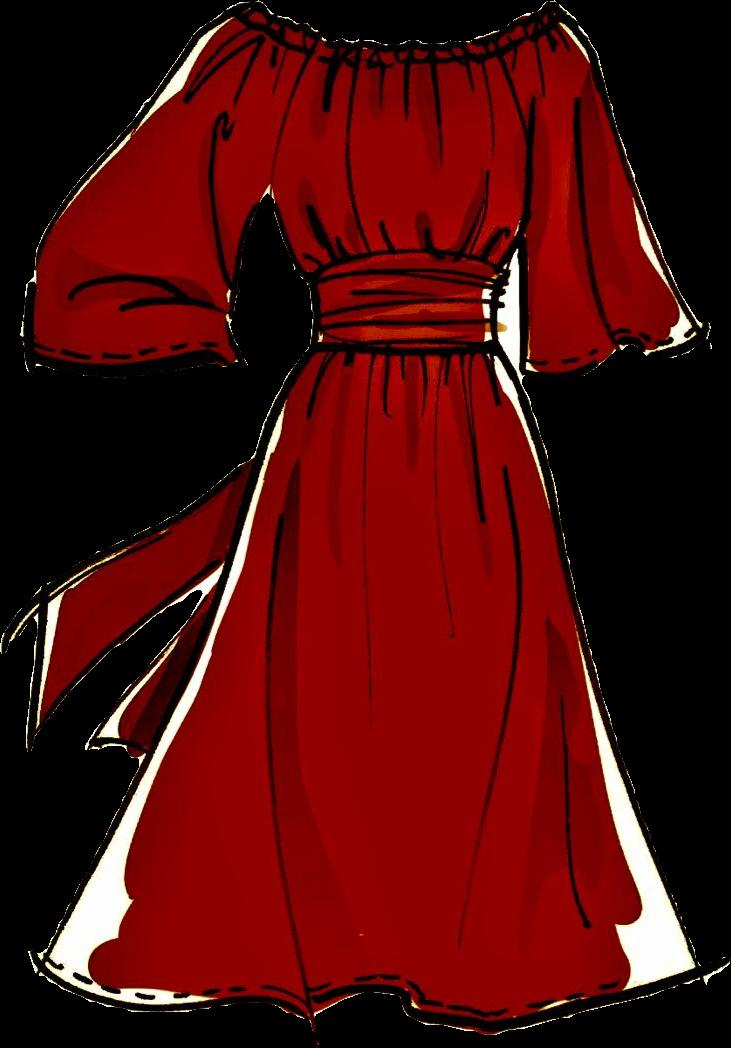Bodice: (265, 35, 532, 353)
Hemline: (29, 955, 706, 1039)
Neckline: (298, 245, 510, 284), (307, 30, 502, 53)
Skirt: (33, 339, 704, 1035)
Sleeve: (21, 0, 310, 377), (489, 0, 710, 375)
Sleeveline: (249, 0, 320, 190), (494, 0, 554, 199)
Waistline: (307, 332, 503, 361)
